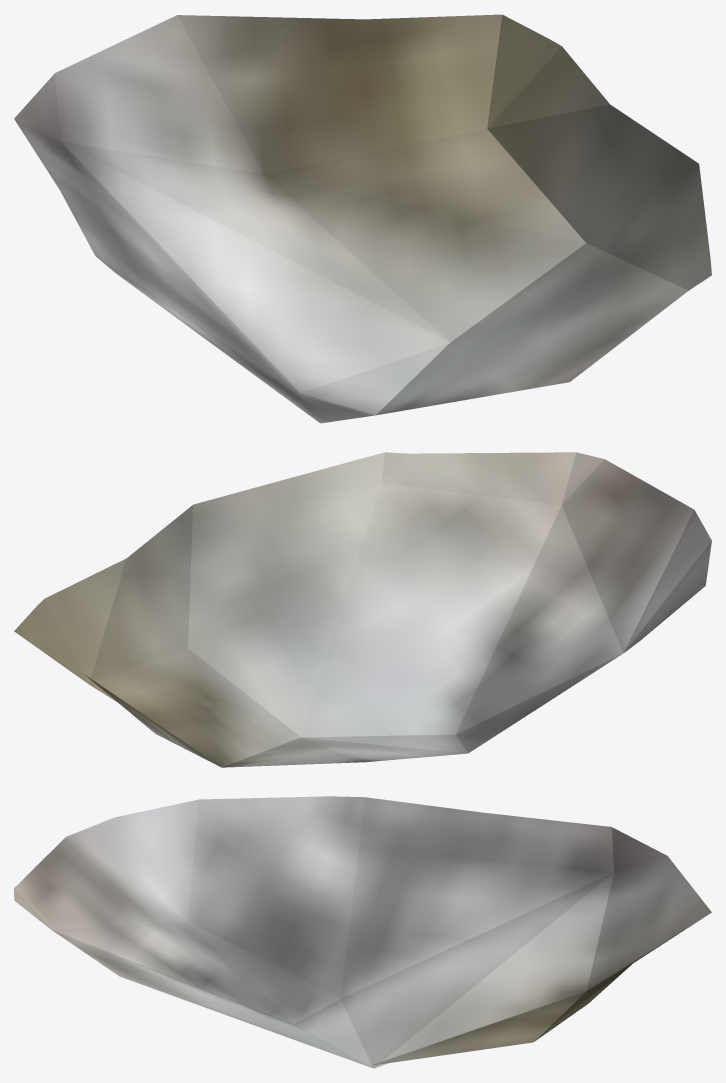
3 renders of one model, top to bottom at view 1: azimuth 30°, elevation 25°; view 2: azimuth 150°, elevation 25°; view 3: azimuth 270°, elevation 25°, orthographic. The views are drawn at different scales.
Size of the model in its own units: 1.04 by 0.3206 by 1.45.
1 material, 1 textured.
